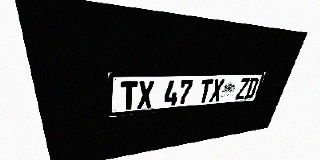4: (163, 80, 180, 106)
7: (177, 80, 193, 105)
D: (244, 78, 259, 99)
T: (121, 81, 138, 110), (197, 79, 214, 103)
X: (137, 81, 154, 109), (209, 79, 225, 102)
Z: (235, 78, 250, 100)
